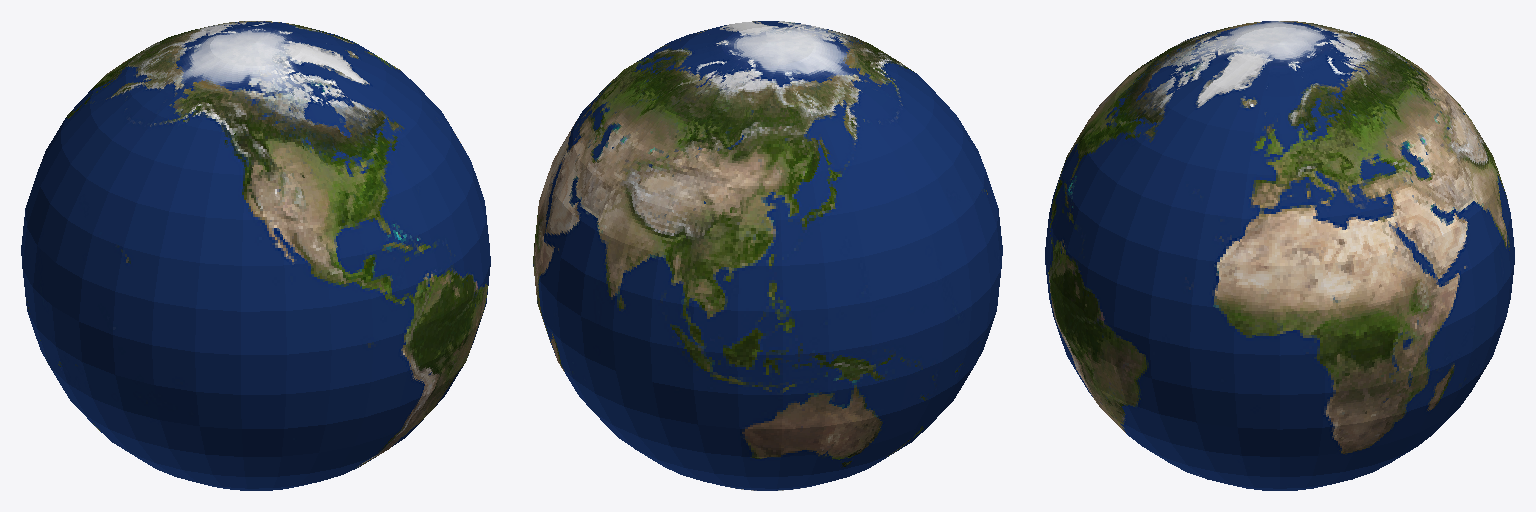
The picture shows the model from 3 angles: view 1: azimuth 30°, elevation 25°; view 2: azimuth 150°, elevation 25°; view 3: azimuth 270°, elevation 25°; orthographic projection.
Parts seen in each view (by area): view 1: Sphere; view 2: Sphere; view 3: Sphere.
Part boxes in pixels (x1,y1,x2,y2): Sphere: (21,21,490,490); Sphere: (533,21,1002,490); Sphere: (1045,21,1514,490).
Bounding box in the file's own units: 2 × 2 × 2.
1 materials, 1 textured.